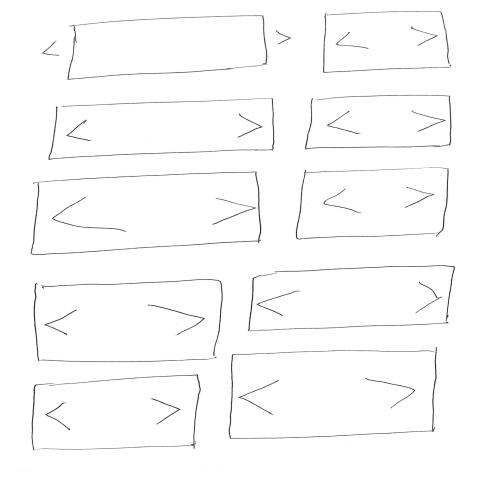Carousel: (30, 171, 264, 257), (229, 350, 440, 440), (41, 15, 291, 81), (32, 279, 225, 363), (47, 97, 277, 162), (247, 265, 456, 333), (30, 374, 203, 453), (295, 167, 451, 242), (304, 94, 455, 151), (322, 10, 452, 75)
